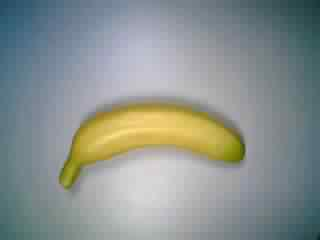banana: (57, 99, 249, 196)
